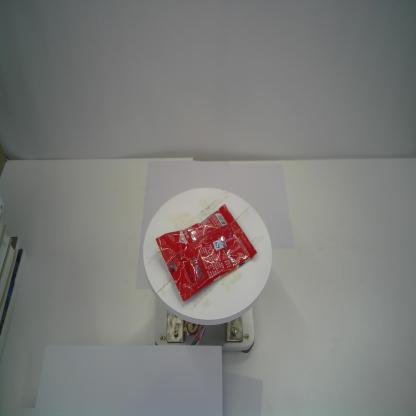Instant Drink: (155, 201, 257, 304)
